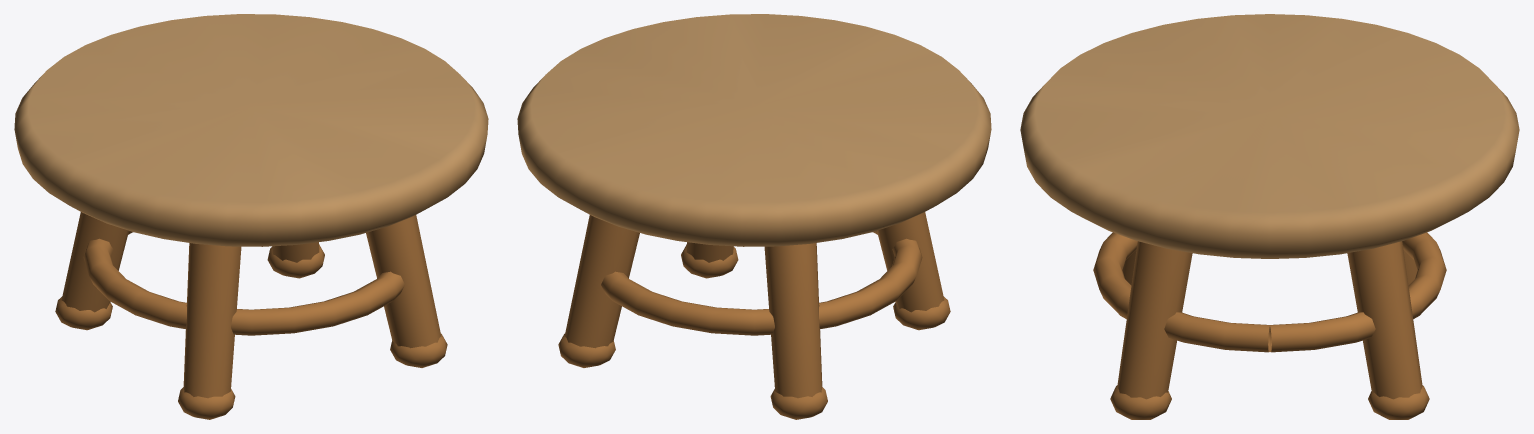
File: style_stool.glb
3 renders of one model, left to right at view 1: azimuth 30°, elevation 25°; view 2: azimuth 150°, elevation 25°; view 3: azimuth 270°, elevation 25°, orthographic. The views are drawn at different scales.
Visible parts, largest first — view 1: style_stool_main; view 2: style_stool_main; view 3: style_stool_main.
Part boxes in pixels (x1,y1,x2,y2): style_stool_main: [14, 14, 488, 419]; style_stool_main: [517, 14, 991, 419]; style_stool_main: [1020, 14, 1519, 419].
Bounding box in the file's own units: 0.548 × 0.304 × 0.548.
